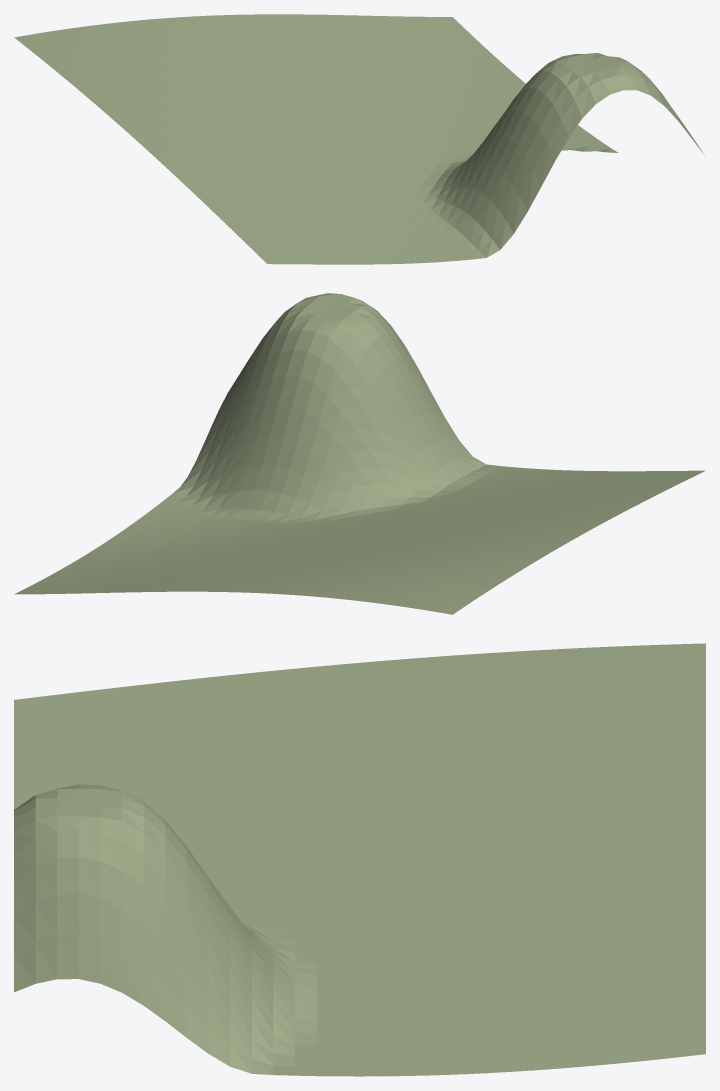
Rendered from expanse-6-25.glb.
3 renders of one model, top to bottom at view 1: azimuth 30°, elevation 25°; view 2: azimuth 150°, elevation 25°; view 3: azimuth 270°, elevation 25°, orthographic. The views are drawn at different scales.
Parts seen in each view (by area): view 1: expanse-6-25; view 2: expanse-6-25; view 3: expanse-6-25.
Part boxes in pixels (<box>): expanse-6-25: <box>14,14,704,264</box>; expanse-6-25: <box>14,293,705,614</box>; expanse-6-25: <box>14,643,705,1076</box>.
Size of the model in its own units: 256 by 87.96 by 256.
